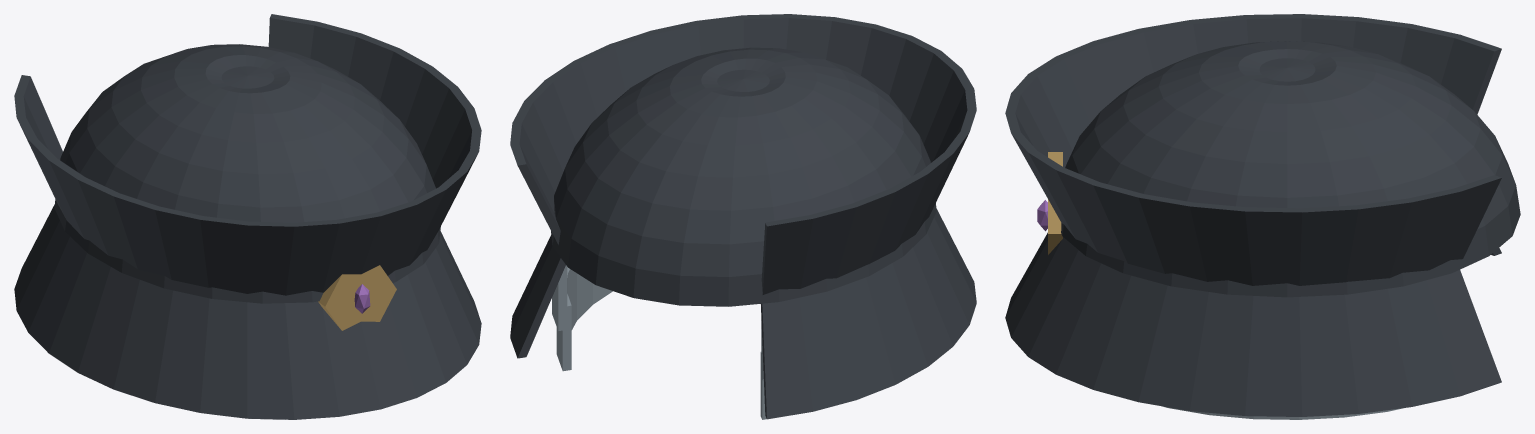
The picture shows the model from 3 angles, left to right: view 1: azimuth 30°, elevation 25°; view 2: azimuth 150°, elevation 25°; view 3: azimuth 270°, elevation 25°; orthographic projection. The views are drawn at different scales.
Visible parts, largest first — view 1: TV-101 Scout Mantle; view 2: TV-101 Scout Mantle; view 3: TV-101 Scout Mantle.
Boxes of the visible parts, x1,y1,x2,y2 form: TV-101 Scout Mantle: (14, 14, 481, 419); TV-101 Scout Mantle: (510, 14, 976, 419); TV-101 Scout Mantle: (1005, 14, 1520, 419).
Size of the model in its own units: 0.3745 by 0.2418 by 0.4109.
